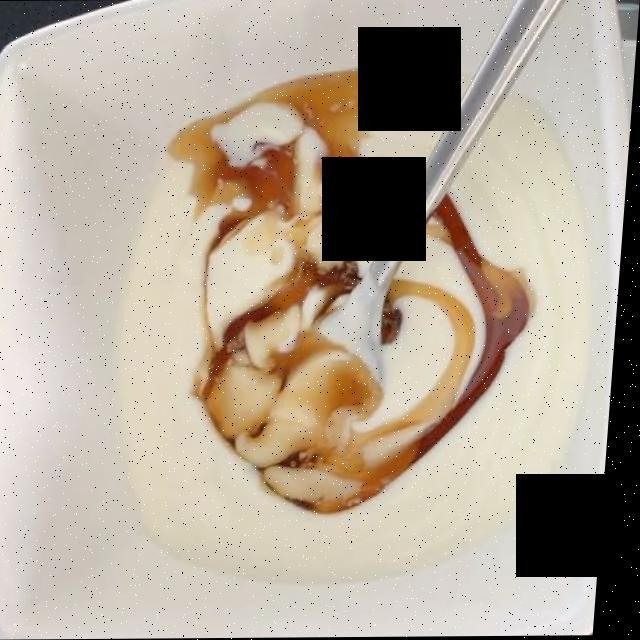maple-syrup: (152, 58, 516, 512)
